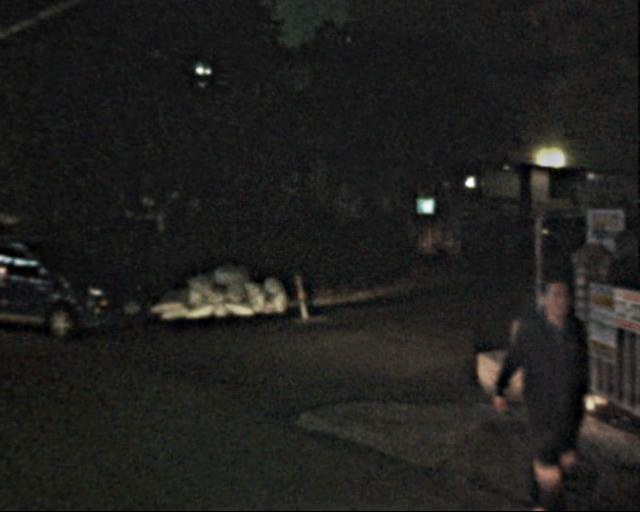person: (485, 278, 601, 507)
